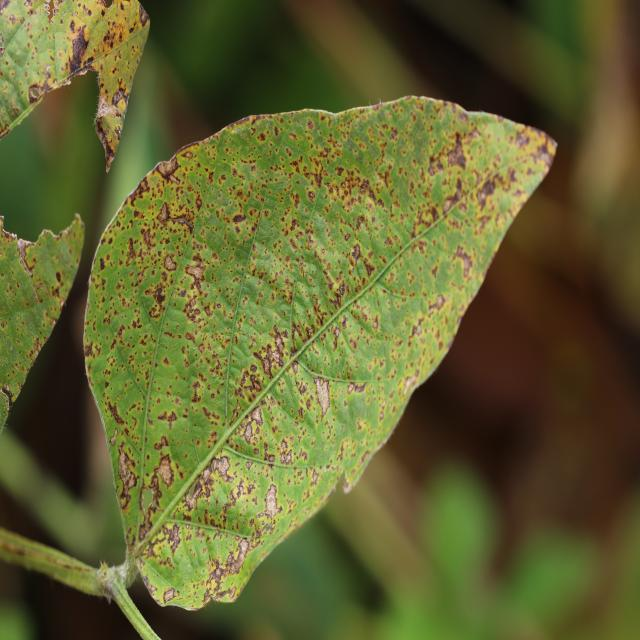Bacterial_Blight: (203, 173, 270, 290), (0, 311, 46, 389), (328, 163, 378, 217), (226, 467, 260, 511), (66, 20, 91, 72), (220, 539, 250, 577), (117, 443, 137, 494), (100, 15, 126, 54), (173, 283, 198, 319), (238, 367, 263, 399), (444, 176, 465, 212), (444, 138, 467, 170), (155, 453, 175, 488), (476, 176, 498, 207), (452, 246, 473, 278), (17, 237, 35, 270), (156, 155, 180, 179), (164, 523, 181, 553), (0, 386, 11, 432), (426, 294, 446, 318), (430, 177, 446, 207), (107, 400, 125, 425), (185, 262, 205, 284), (537, 145, 555, 169), (151, 284, 167, 310), (185, 485, 201, 511), (157, 408, 180, 426), (112, 89, 128, 113), (140, 488, 155, 513), (28, 83, 45, 104), (209, 564, 224, 587), (514, 130, 532, 149), (92, 109, 105, 135), (44, 1, 59, 23), (156, 201, 170, 224), (243, 420, 256, 444), (126, 237, 138, 263), (34, 284, 49, 304), (351, 243, 363, 265), (163, 254, 177, 272), (142, 228, 154, 248), (163, 587, 177, 602), (139, 6, 149, 26), (280, 450, 293, 465), (0, 122, 10, 141), (410, 323, 422, 338), (103, 0, 116, 13), (232, 213, 246, 224), (337, 283, 346, 298), (105, 157, 113, 173), (11, 103, 20, 117), (98, 557, 107, 571), (182, 151, 194, 160), (58, 49, 67, 60), (55, 271, 62, 284), (257, 132, 266, 142), (267, 453, 275, 464), (115, 126, 122, 138), (59, 298, 65, 310), (63, 227, 69, 239), (11, 232, 18, 242), (8, 284, 14, 293)
Soybean: (84, 98, 555, 609)
